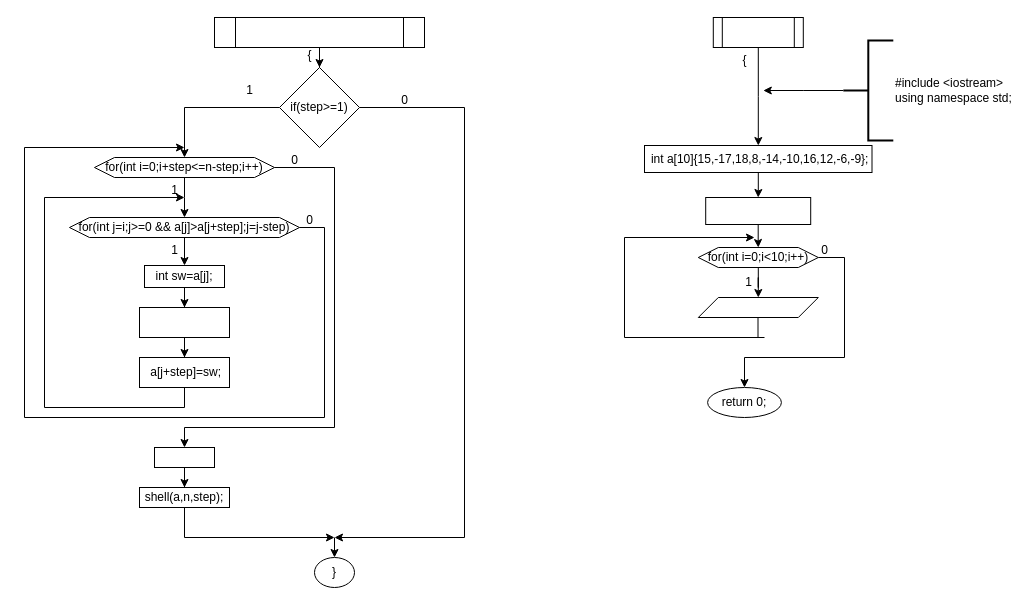
Some shapes in this 1030 by 605 pixel diagram are drawn without their labels. The box of each missing label's shape, as (x1, y1, x2, y2) in pixels:
a[j]=a[j+step];: (138, 306, 230, 338)
cout<<a[i]<<" ";: (697, 296, 818, 318)
int main(): (712, 16, 803, 48)
shell(a,10,10/2);: (705, 196, 811, 224)
step/=2;: (154, 446, 214, 468)
void shell(int* a,int n,int step): (214, 16, 424, 48)
